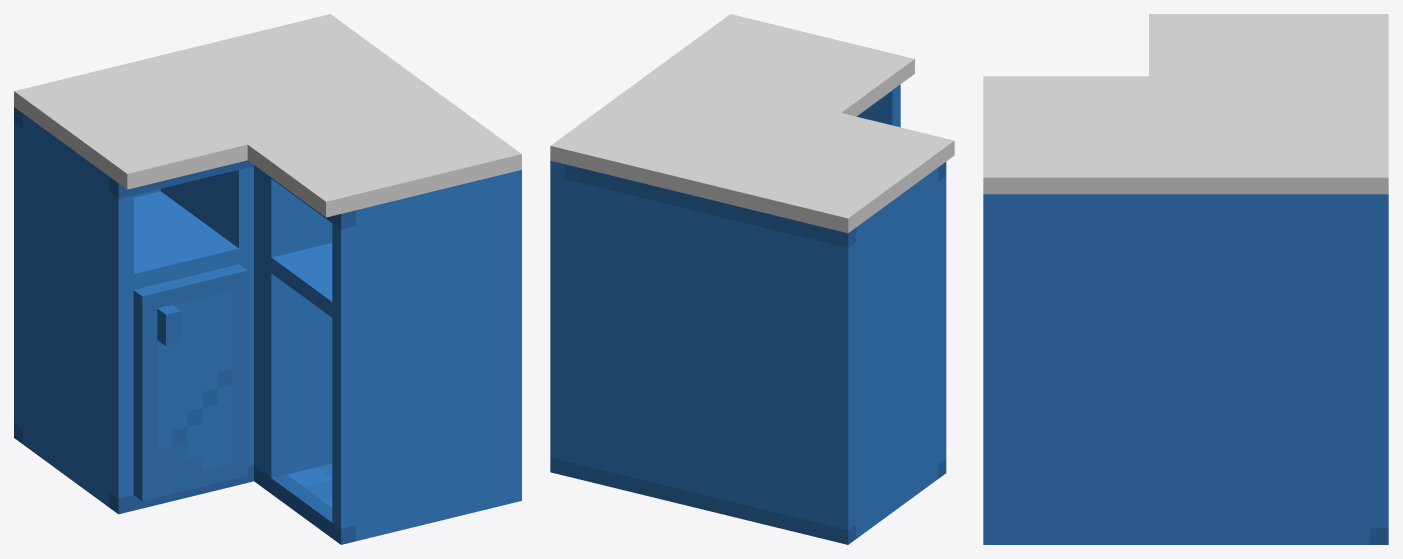
Rendered from kitchen_drawers_base3.obj.
3 renders of one model, left to right at view 1: azimuth 30°, elevation 25°; view 2: azimuth 150°, elevation 25°; view 3: azimuth 270°, elevation 25°, orthographic. The views are drawn at different scales.
Bounding box in the file's own units: 2.1 × 2.2 × 2.2.
